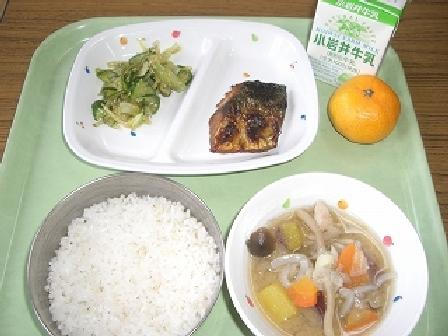Citrus: (322, 75, 412, 143)
Fish: (81, 43, 195, 128), (195, 75, 300, 159)
Milk: (300, 0, 413, 90)
Rice: (30, 181, 224, 330)
Soups: (229, 186, 422, 332)
